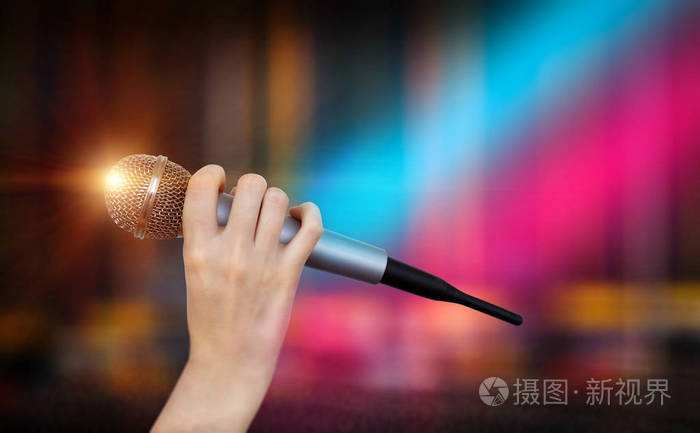no-phone: (101, 151, 372, 401)
